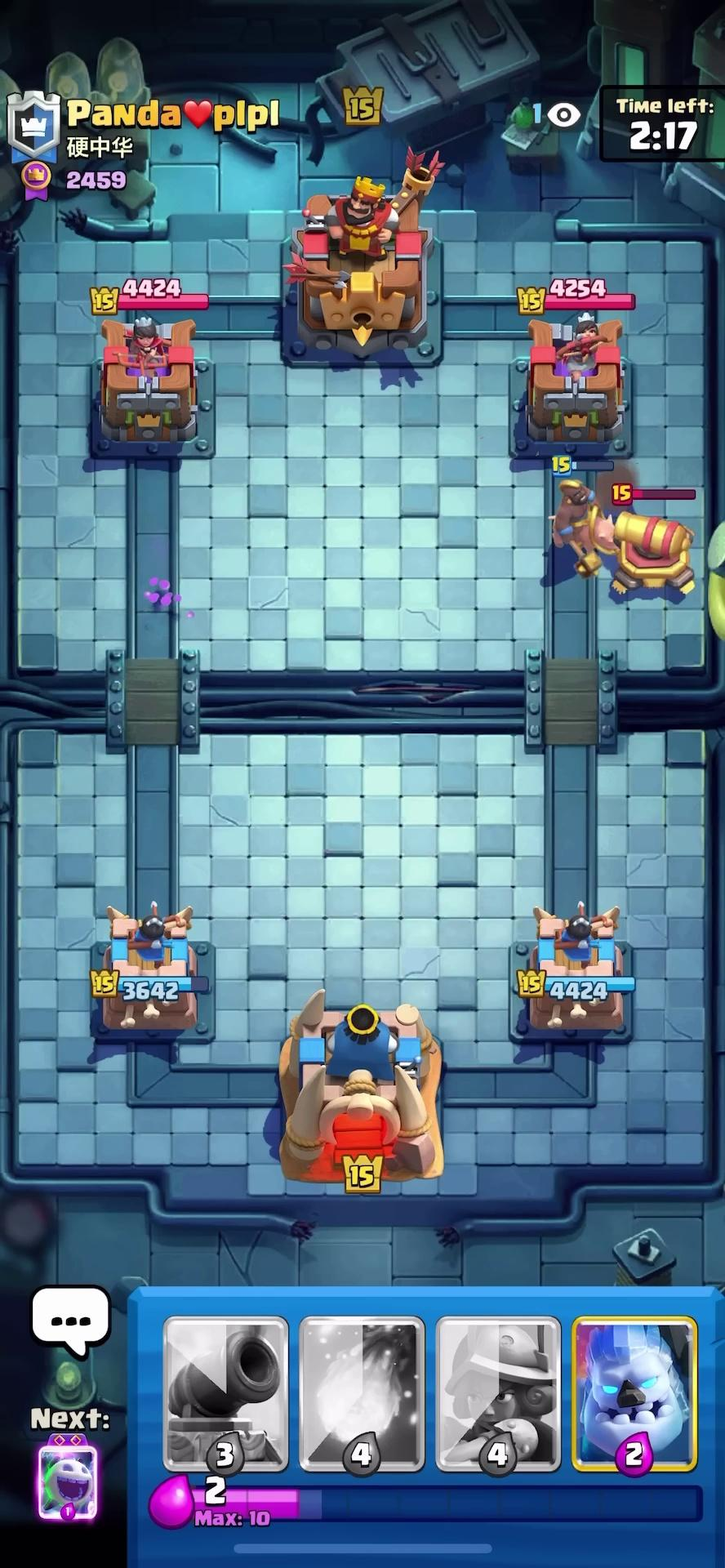hog_rider: (535, 461, 647, 576)
